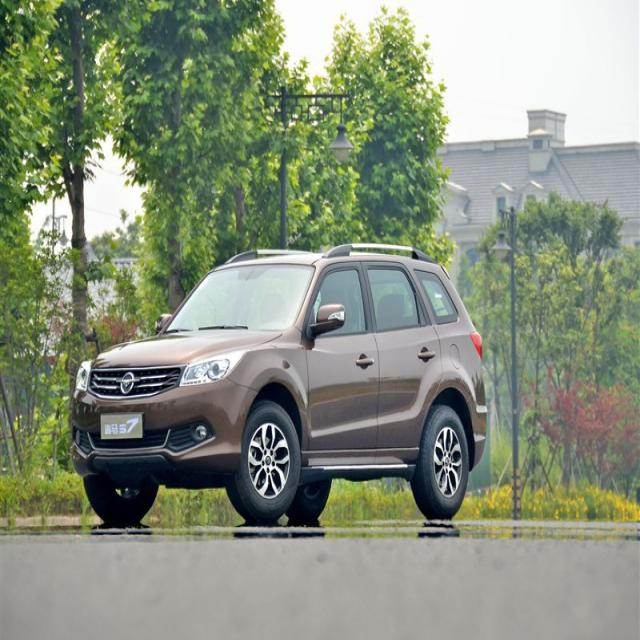back_left_side_light: (468, 328, 485, 358)
door: (363, 258, 440, 459)
front_bumper: (70, 370, 262, 480)
front_glass: (162, 262, 317, 332)
front_left_side_door: (301, 257, 381, 455)
front_left_side_light: (178, 346, 249, 388)
front_left_side_mirror: (309, 302, 346, 338)
front_right_side_light: (75, 357, 91, 394)
front_right_side_mirror: (154, 311, 172, 334)
wheel: (225, 400, 301, 522), (409, 404, 468, 522), (84, 475, 161, 527), (287, 478, 333, 520)
